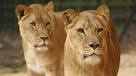lion: (63, 4, 121, 76), (12, 2, 64, 76)
